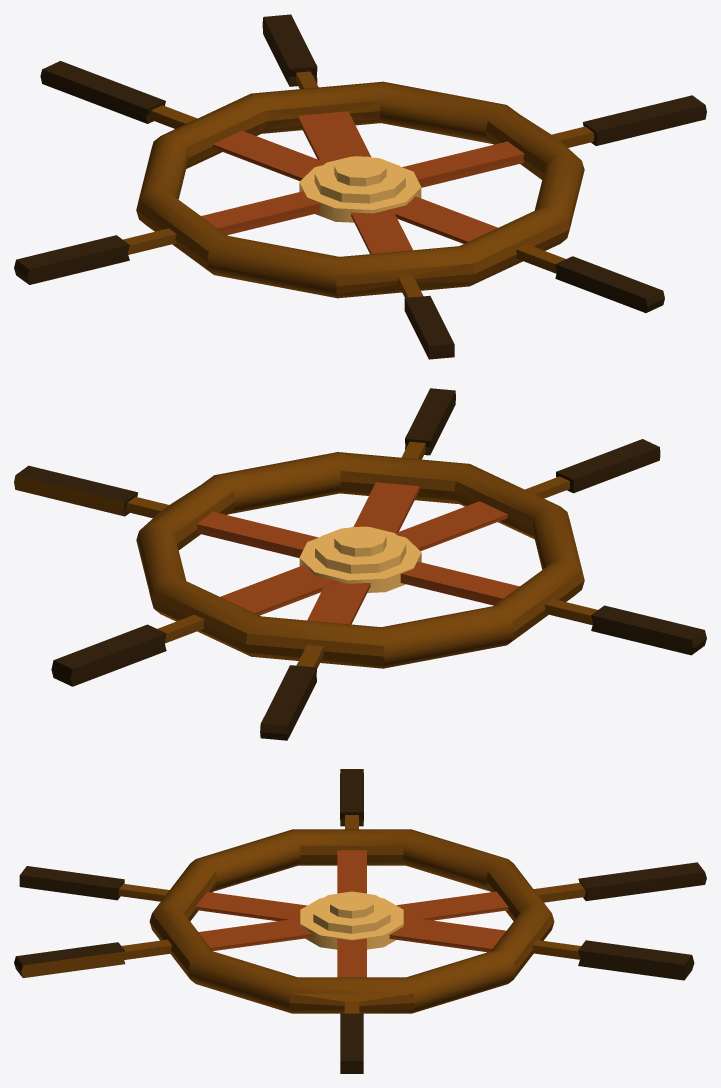
The model's file is SteerWheel.FBX.
The picture shows the model from 3 angles, top to bottom: view 1: azimuth 30°, elevation 25°; view 2: azimuth 150°, elevation 25°; view 3: azimuth 270°, elevation 25°; orthographic projection. The views are drawn at different scales.
Visible parts, largest first — view 1: Torus001; view 2: Torus001; view 3: Torus001.
Boxes of the visible parts, x1,y1,x2,y2 form: Torus001: [14, 14, 706, 359]; Torus001: [14, 388, 706, 740]; Torus001: [14, 769, 706, 1073].
Bounding box in the file's own units: 377 × 377 × 22.14.
1 material, 1 textured.
